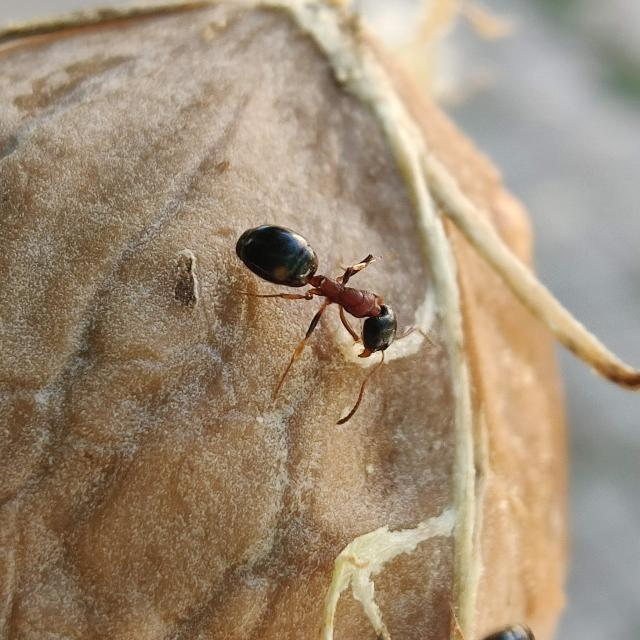Dolichoderus: (220, 195, 430, 382)
